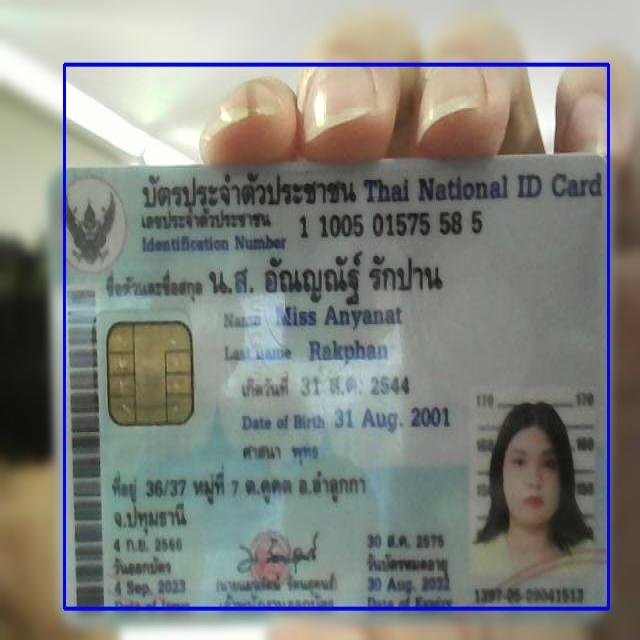Address_th: (105, 461, 368, 538)
Date_of_Birth: (331, 401, 455, 439)
Date_of_Expiry: (362, 574, 454, 598)
Date_of_Issue: (110, 574, 194, 600)
First_Name: (270, 300, 406, 332)
ID_Number: (294, 207, 487, 242)
Image: (472, 391, 596, 582)
Last_Name: (305, 336, 390, 366)
Thai_Name: (204, 252, 448, 304)
